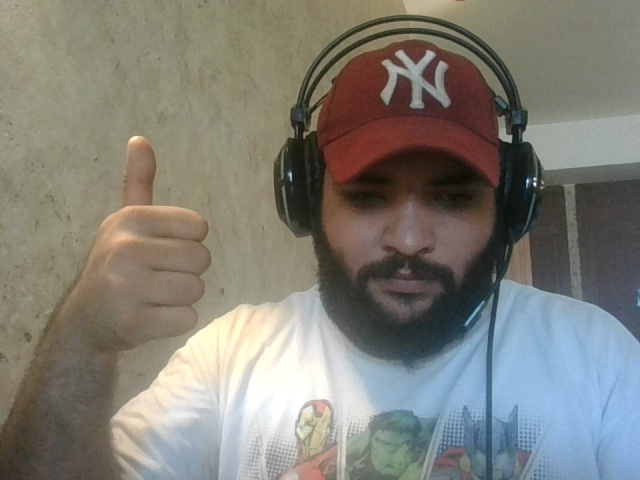yes: (86, 134, 215, 361)
